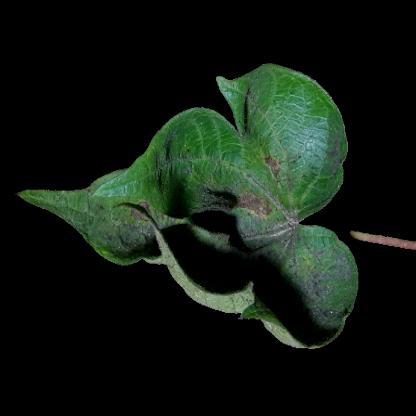curl_stage1: (180, 120, 240, 175), (275, 83, 319, 151)
curl_stage2: (166, 254, 251, 306), (233, 81, 274, 120)
sooty: (225, 198, 297, 275), (82, 209, 166, 259), (283, 276, 337, 339), (316, 237, 354, 288)
